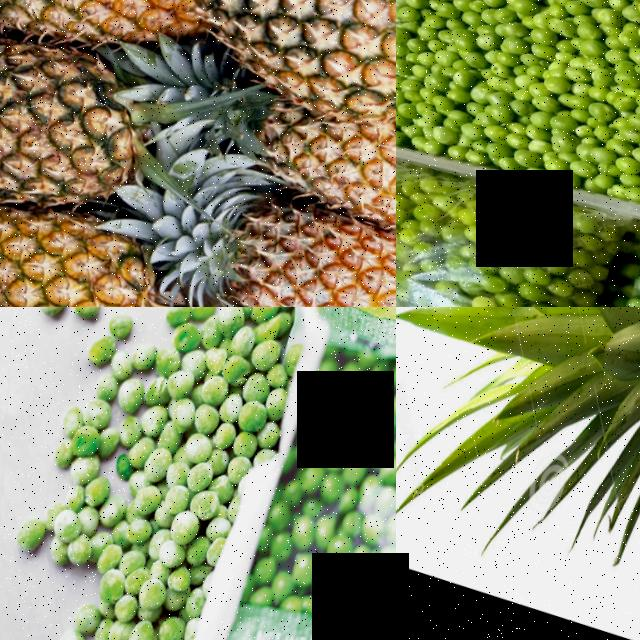peas: (45, 307, 292, 640), (396, 0, 640, 246), (10, 307, 170, 579), (240, 352, 396, 628)
pineapple: (131, 0, 396, 159), (0, 0, 151, 246), (216, 76, 396, 266), (0, 138, 194, 307), (177, 172, 396, 307), (561, 307, 640, 638), (0, 0, 200, 90)
